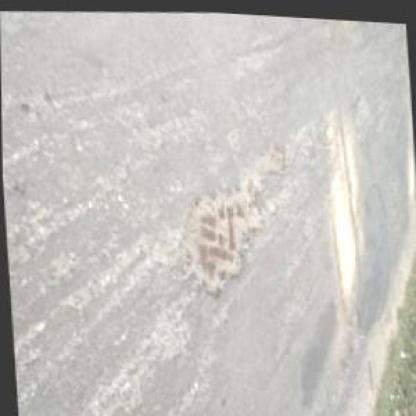pothole: (172, 175, 269, 306), (333, 302, 363, 368), (255, 139, 286, 173)
